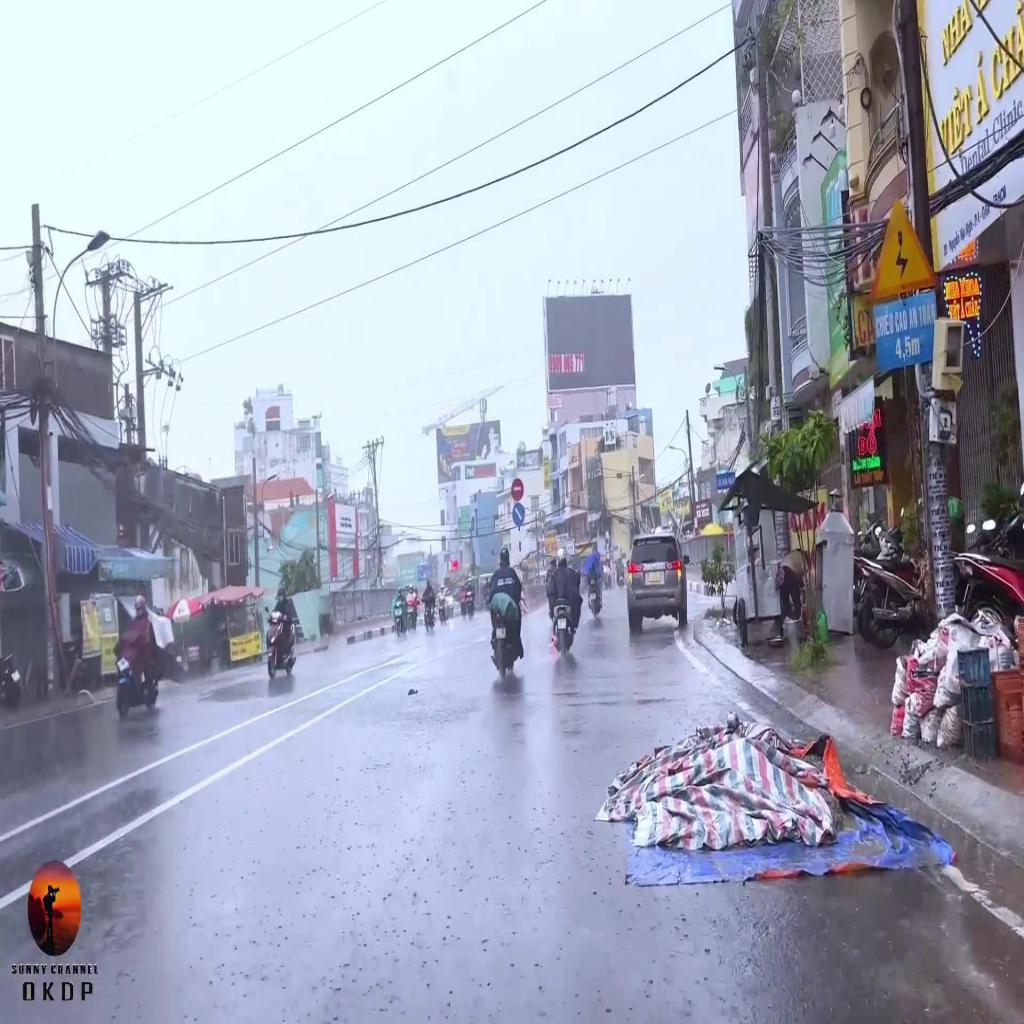cam_xe_di_nguoc_chieu: (511, 480, 524, 500)
huong_phai_di_vuot_chuong_ngai_vat_phai: (512, 504, 524, 527)
khac: (869, 190, 938, 304)
